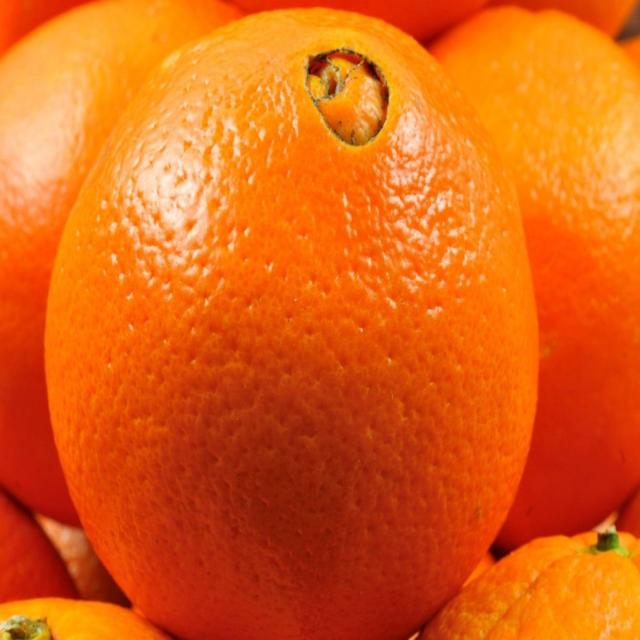orange: (49, 9, 538, 635)
